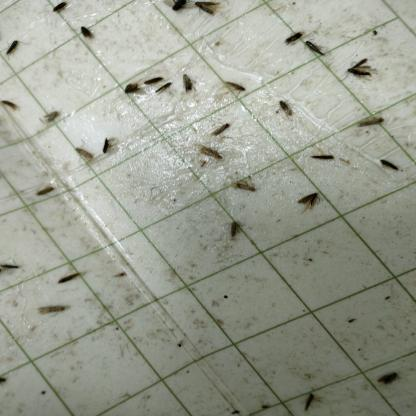prays_oleae: (294, 182, 321, 227), (348, 49, 376, 87), (352, 108, 383, 134), (1, 252, 21, 292), (378, 147, 398, 182), (36, 296, 66, 319), (379, 360, 399, 393), (199, 138, 222, 165), (280, 25, 304, 50), (72, 140, 95, 166), (0, 89, 17, 123), (225, 75, 247, 101), (2, 37, 21, 65), (236, 171, 256, 197), (307, 147, 334, 166), (37, 103, 59, 125), (56, 270, 82, 287), (143, 68, 161, 92), (275, 99, 293, 123), (301, 389, 319, 413), (209, 121, 235, 137), (224, 217, 242, 239), (123, 79, 141, 100), (182, 68, 196, 94), (76, 26, 94, 45), (154, 82, 173, 98), (303, 42, 322, 58), (36, 184, 53, 201), (51, 4, 70, 15)
